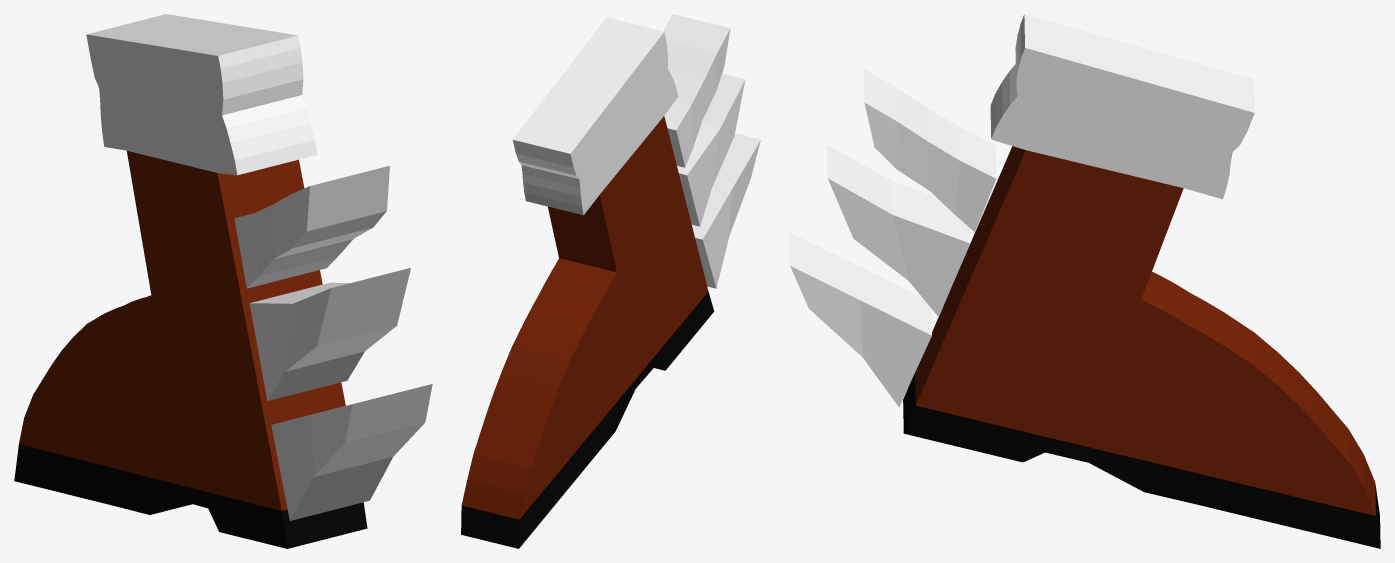
The model's file is MovementSpeed.fbx.
3 views of the same model, side by side, from view 1: azimuth 30°, elevation 25°; view 2: azimuth 150°, elevation 25°; view 3: azimuth 270°, elevation 25° (orthographic). The views are drawn at different scales.
Parts seen in each view (by area): view 1: Cube; view 2: Cube; view 3: Cube.
Part boxes in pixels (x1=…): Cube: x1=14, y1=14, x2=432, y2=548; Cube: x1=461, y1=14, x2=760, y2=548; Cube: x1=789, y1=14, x2=1380, y2=548.
Bounding box in the file's own units: 21.28 × 136 × 146.
